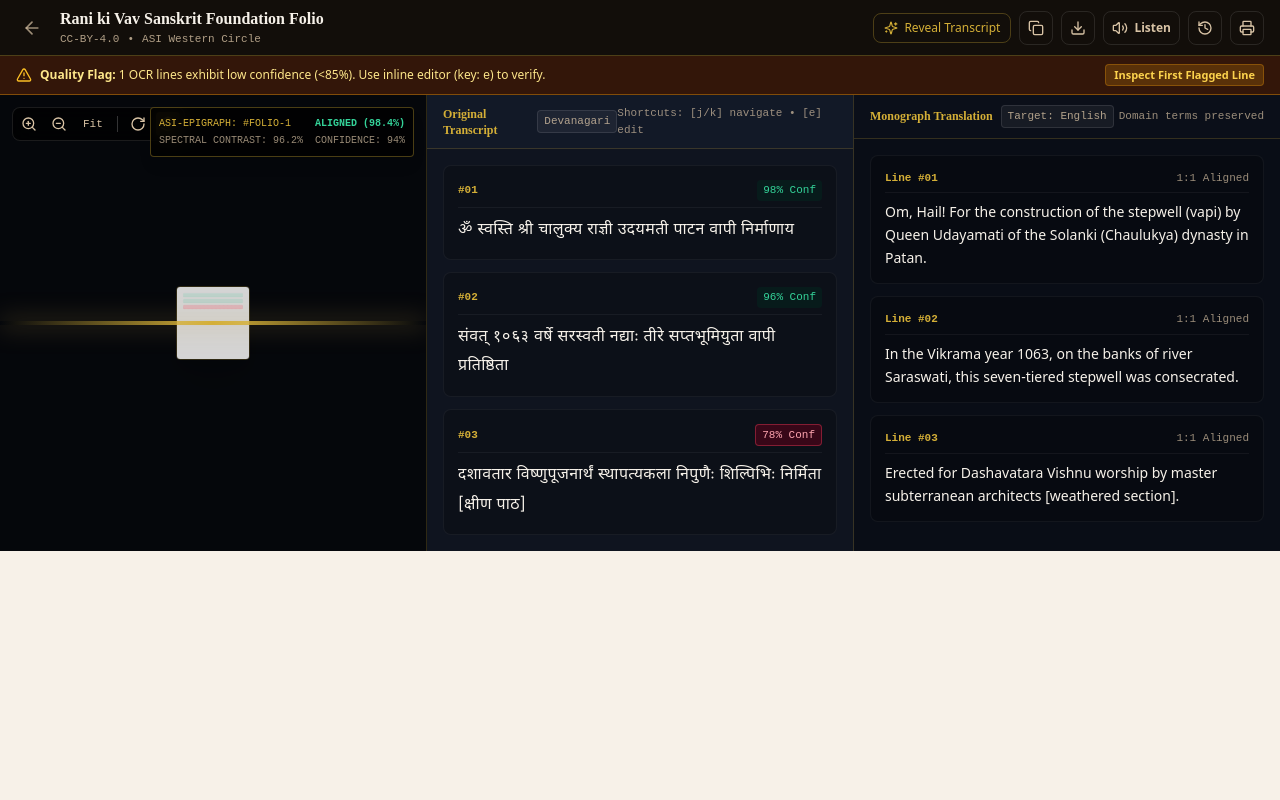
it: M3: DocumentViewer Interactive Component & Bidirectional Linking › handles inline human-in-the-loop editing with optimistic UI update
# Click line to select
Click the text "ॐ स्वस्ति श्री चालुक्य राज्ञी उदयमती पाटन वापी निर्माणाय".
click(626, 230)  # box [458,220,794,240]
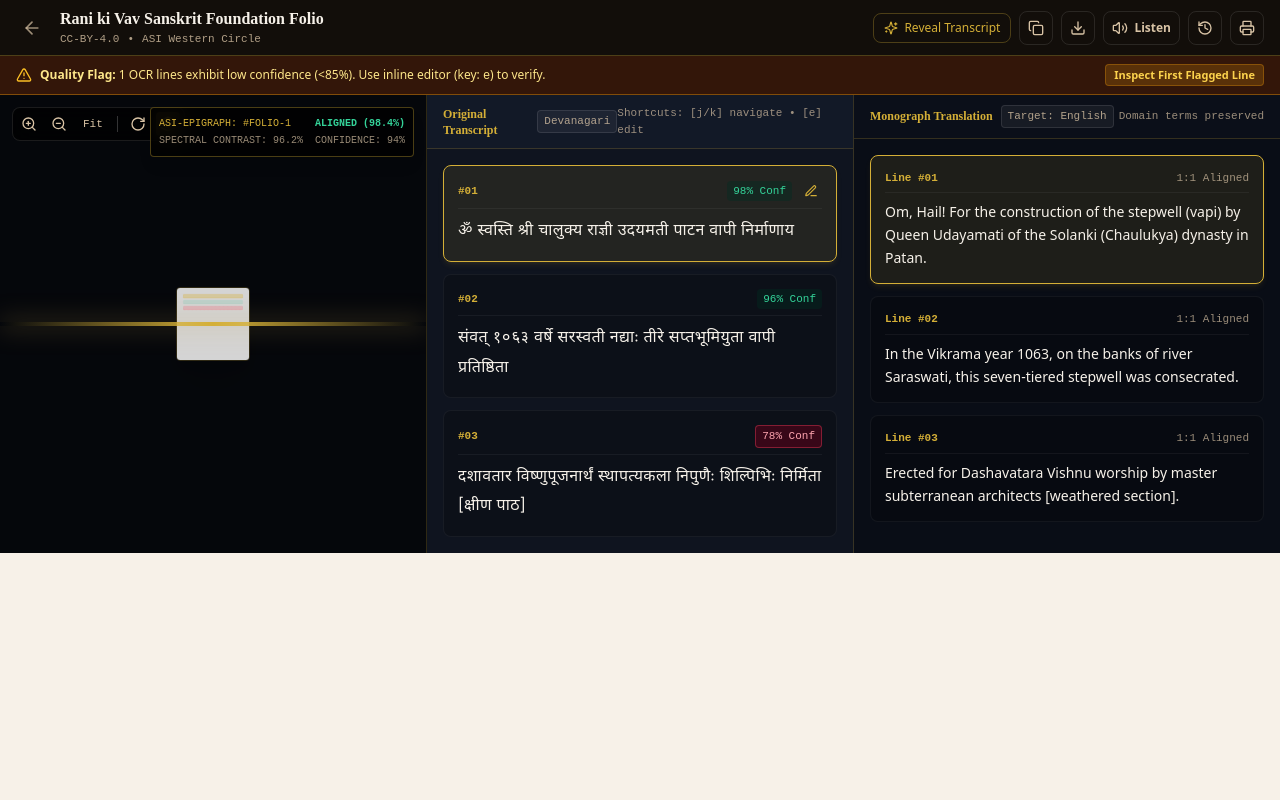
# Click edit button
Click the button titled "Edit Line (Key: e)".
click(811, 191)  # box [800,180,822,202]
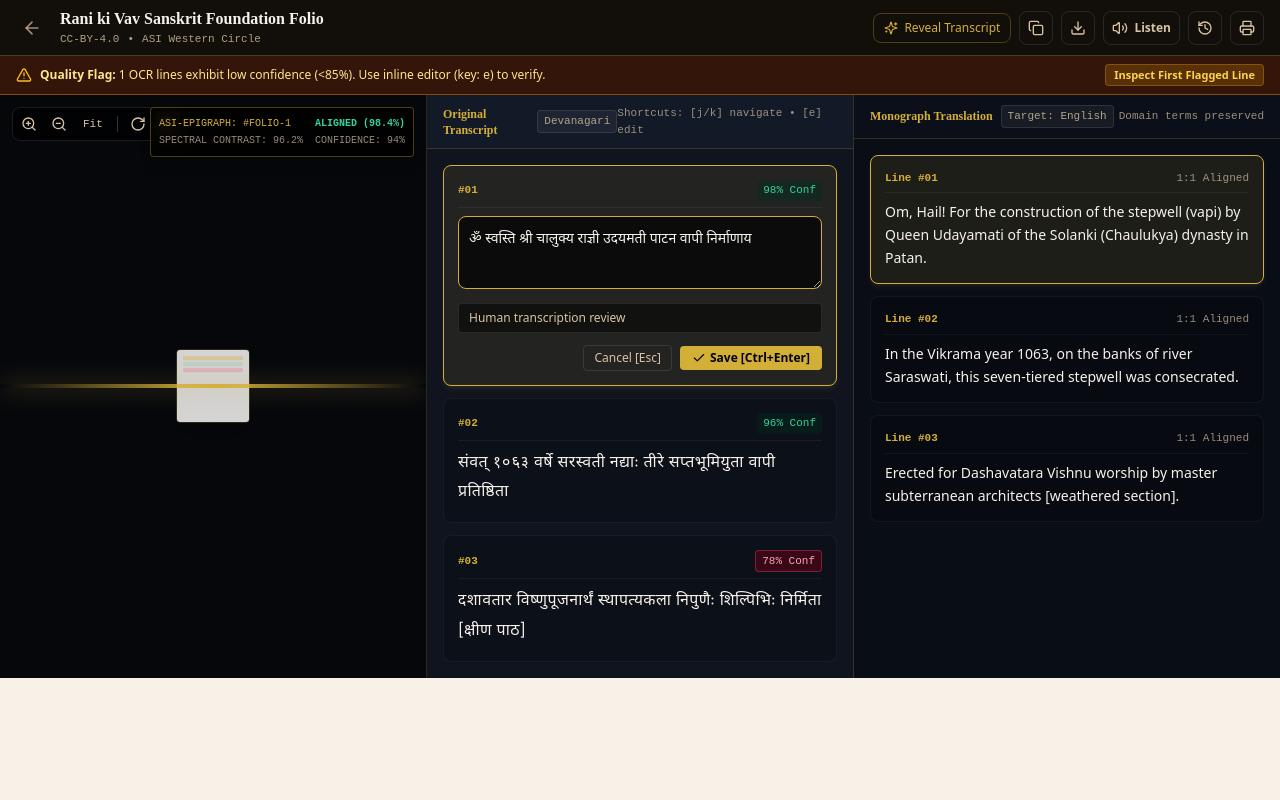
Check: the text box is shown
# Change text and click save
Replace the text in the text box with "ॐ स्वस्ति श्री चालुक्य राज्ञी उदयमती पाटन वापी निर्माणाय [सत्यापित पाठ]" at (640, 252), box [458,216,822,289]
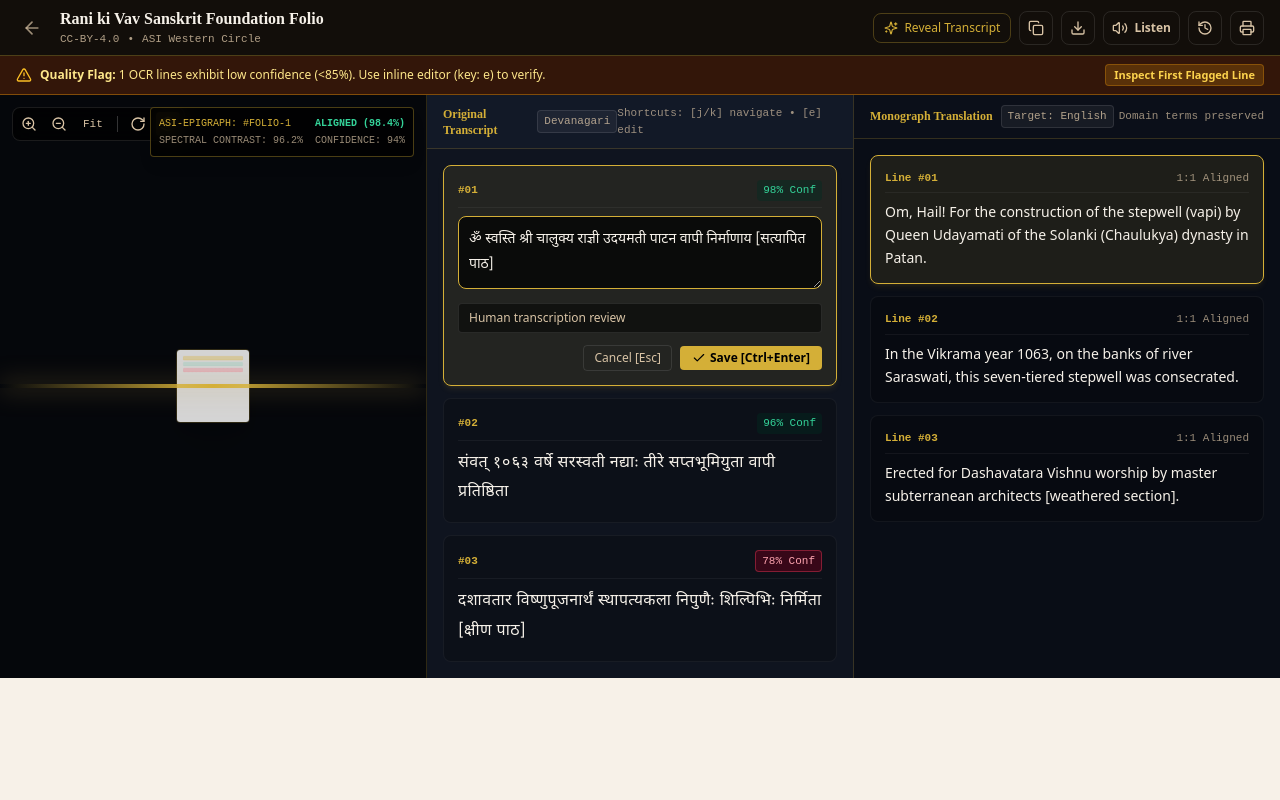
Click the button "Save [Ctrl+Enter]".
click(751, 358)  # box [680,346,822,370]
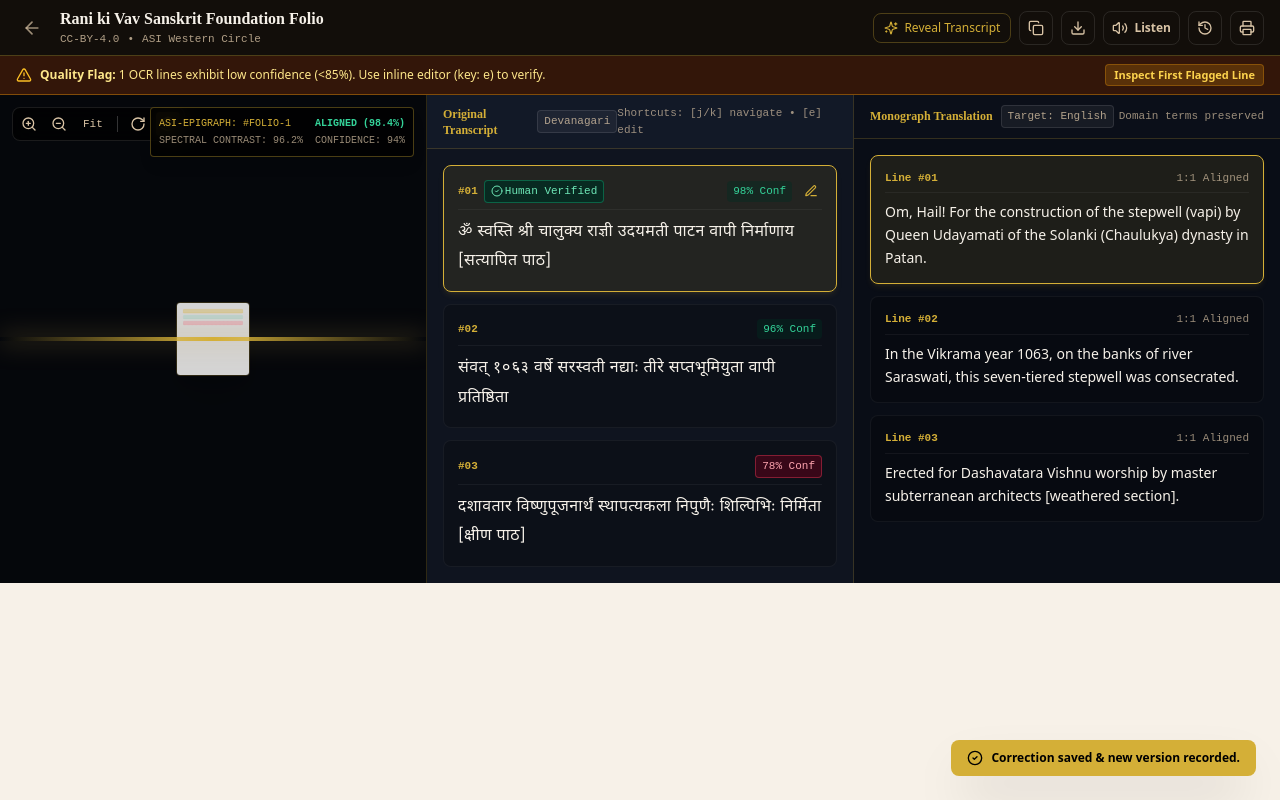
Check: the text "ॐ स्वस्ति श्री चालुक्य राज्ञी उदयमती पाटन वापी निर्माणाय [सत्यापित पाठ]" is shown, box [458,210,822,277]
